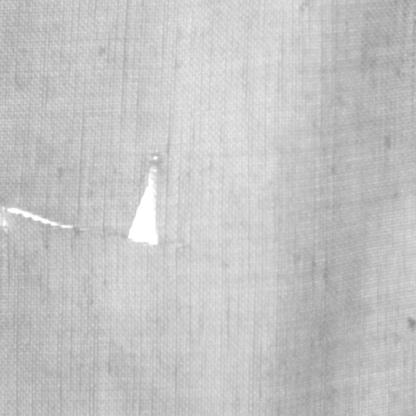hole: (124, 152, 164, 249), (0, 198, 78, 234)
